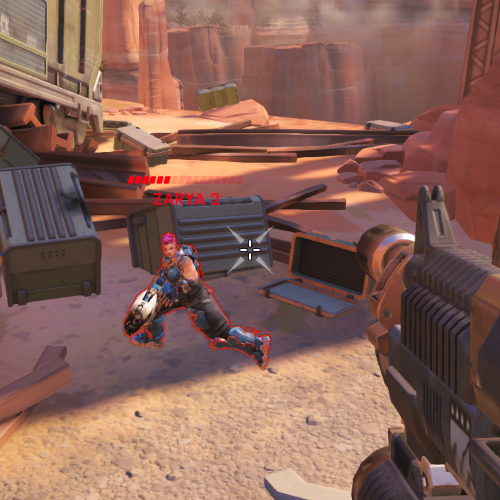hpbar: (127, 175, 244, 185)
